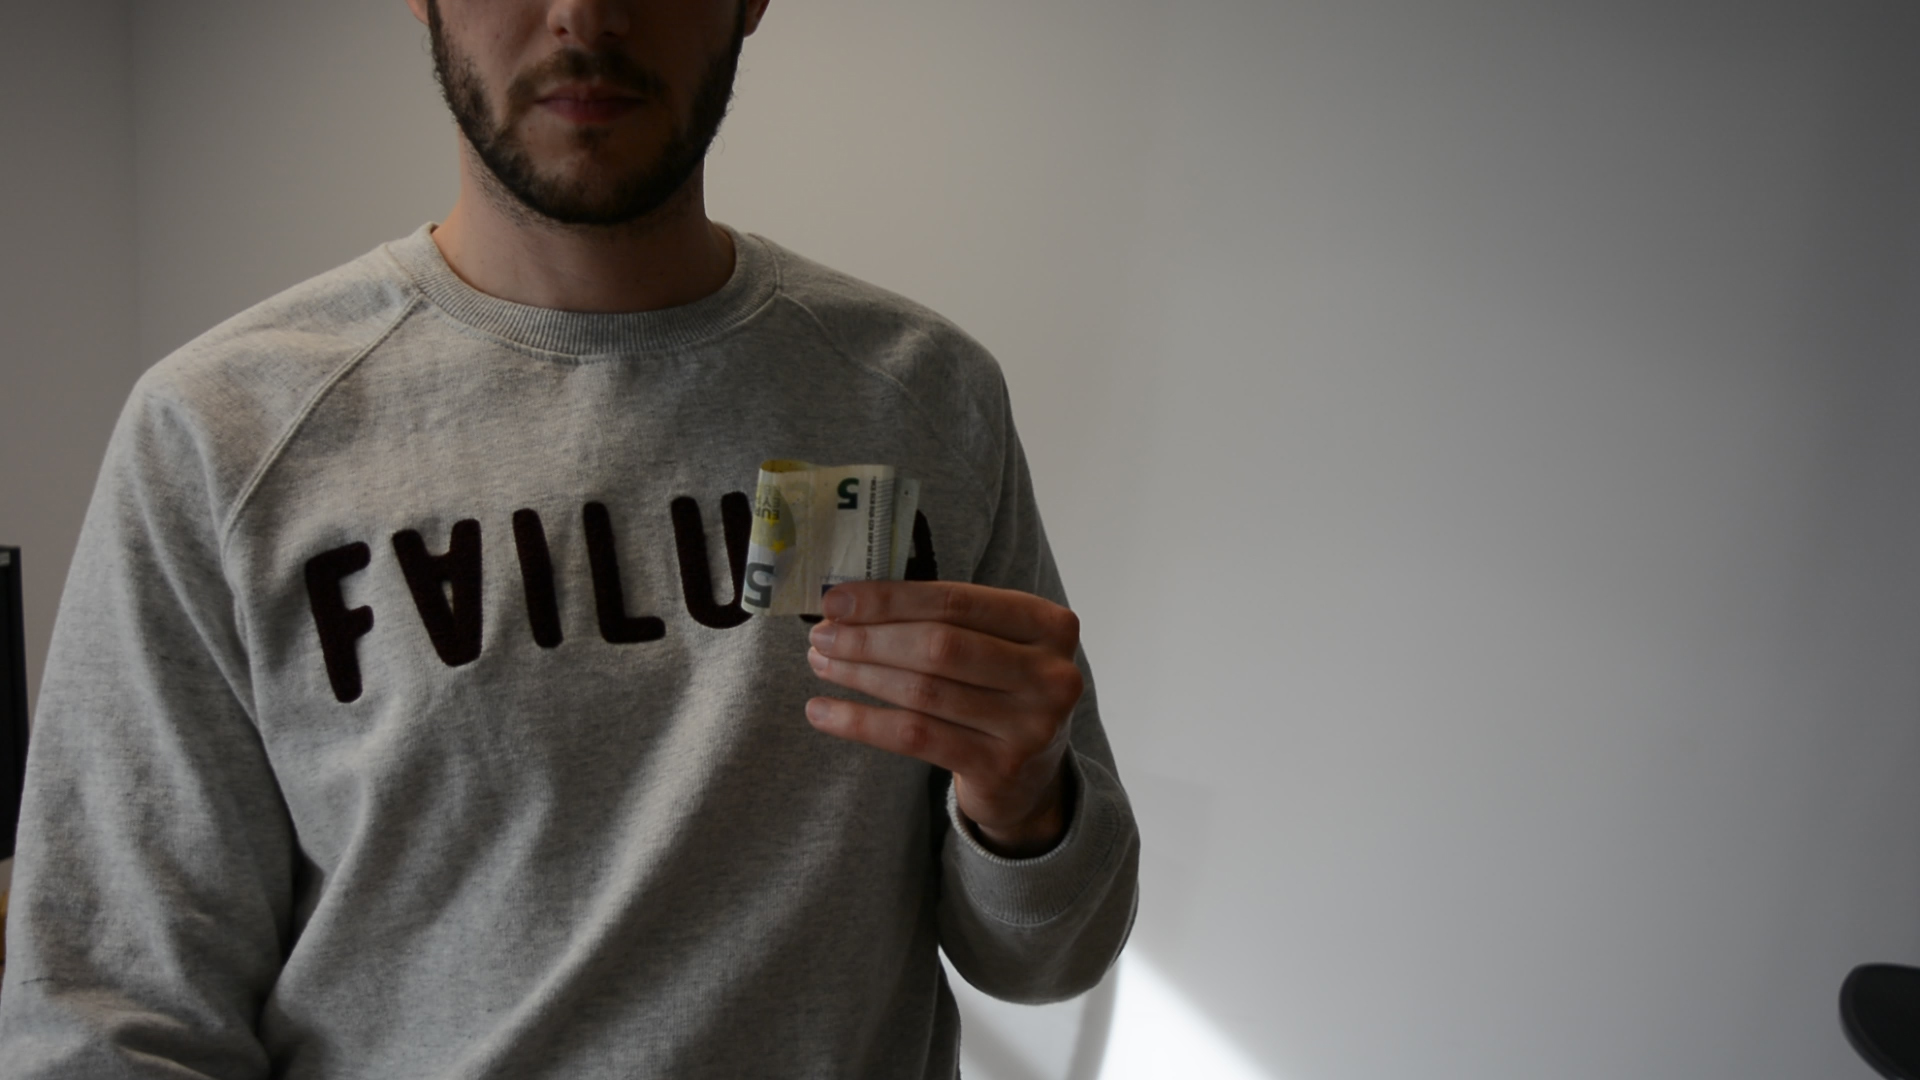billete: (738, 458, 926, 621)
